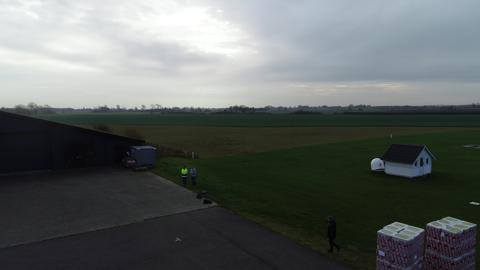RockwoolPallet: (427, 214, 478, 270)
